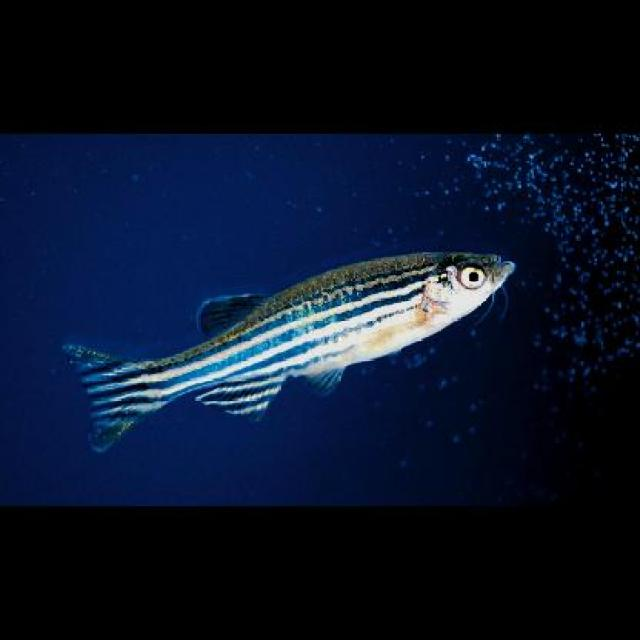ZebraFish: (63, 248, 515, 450)
